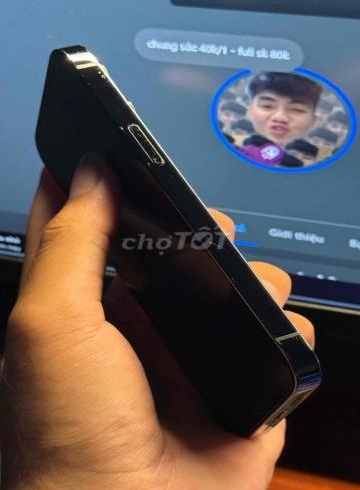scratch: (69, 53, 180, 183), (195, 220, 280, 326)
